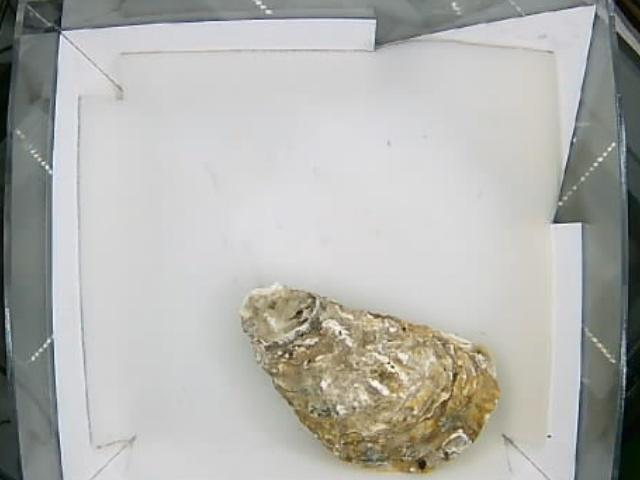Shell: (237, 286, 498, 469)
